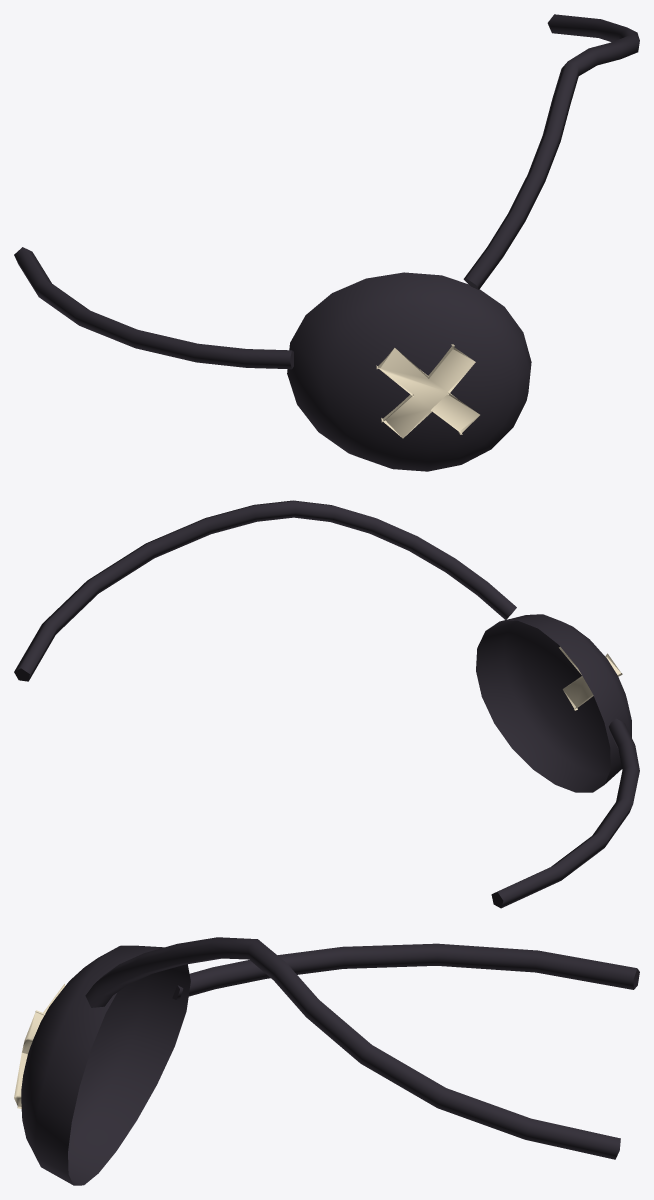
The model's file is face_eye_patch.glb.
The picture shows the model from 3 angles, top to bottom: view 1: azimuth 30°, elevation 25°; view 2: azimuth 150°, elevation 25°; view 3: azimuth 270°, elevation 25°; orthographic projection. The views are drawn at different scales.
Visible parts, largest first — view 1: Patch, Strap, Stitch; view 2: Patch, Strap, Stitch; view 3: Patch, Strap, Stitch.
Part boxes in pixels (box(x1,y1,x2,y2)): Patch: box(287, 272, 531, 471); Strap: box(14, 14, 639, 369); Stitch: box(376, 344, 479, 438); Patch: box(476, 614, 631, 792); Strap: box(14, 500, 639, 908); Stitch: box(559, 647, 622, 710); Patch: box(21, 945, 190, 1185); Strap: box(85, 937, 639, 1159); Stitch: box(14, 984, 65, 1108).
Size of the model in its own units: 0.7284 by 0.3698 by 0.5895.
